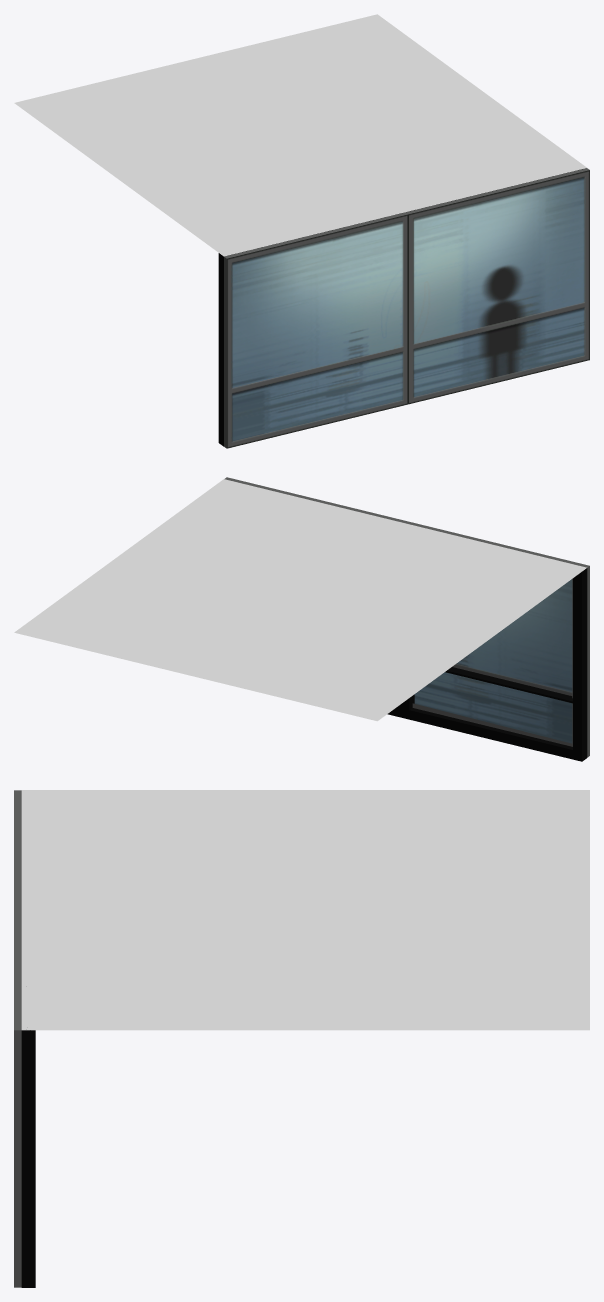
Rendered from window.glb.
3 views of the same model, one above another, from view 1: azimuth 30°, elevation 25°; view 2: azimuth 150°, elevation 25°; view 3: azimuth 270°, elevation 25° (orthographic). The views are drawn at different scales.
Visible parts, largest first — view 1: room_light, image, Cube.005; view 2: room_light, image, Cube.005; view 3: room_light, image, Cube.005.
Boxes of the visible parts, box(x1,y1,x2,y2) form: room_light: box(14, 14, 586, 256); image: box(224, 168, 589, 448); Cube.005: box(218, 169, 582, 446); room_light: box(14, 479, 586, 721); image: box(224, 477, 589, 757); Cube.005: box(387, 568, 587, 761); room_light: box(21, 790, 589, 1030); image: box(14, 790, 21, 1287); Cube.005: box(21, 1030, 35, 1287).
Bounding box in the file's own units: 4 × 2 × 4.05.
2 materials, 1 textured.
